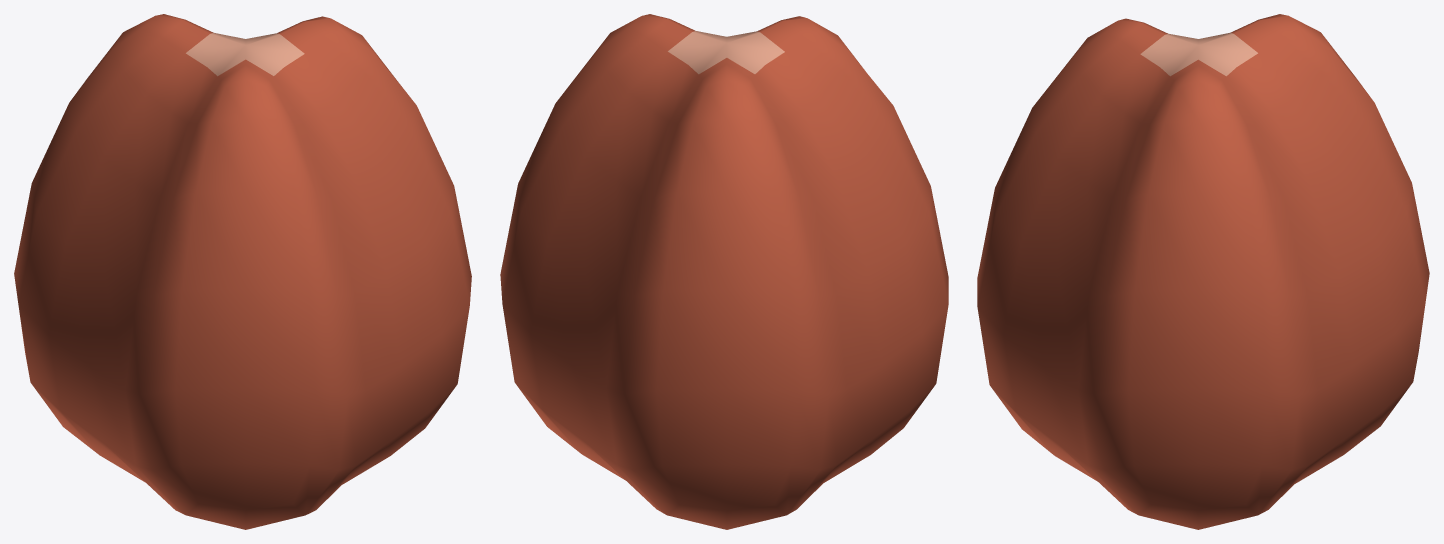
Rendered from Clover_A_01.fbx.
3 views of the same model, side by side, from view 1: azimuth 30°, elevation 25°; view 2: azimuth 150°, elevation 25°; view 3: azimuth 270°, elevation 25° (orthographic).
Parts seen in each view (by area): view 1: Clover_A_01_LOD0; view 2: Clover_A_01_LOD0; view 3: Clover_A_01_LOD0.
Boxes of the visible parts, x1,y1,x2,y2 form: Clover_A_01_LOD0: (14,14,471,529); Clover_A_01_LOD0: (500,14,948,529); Clover_A_01_LOD0: (977,14,1429,529).
Size of what is drawn, in the model's own units: 255 by 301 by 277.
